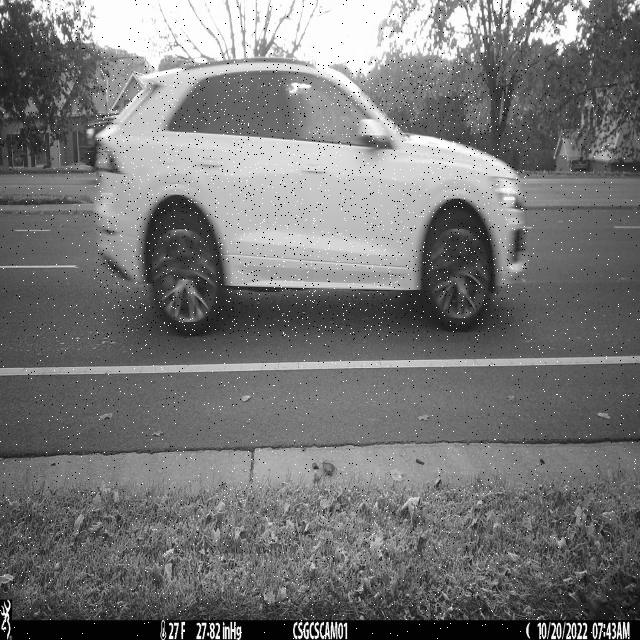SUV: (94, 60, 529, 337)
